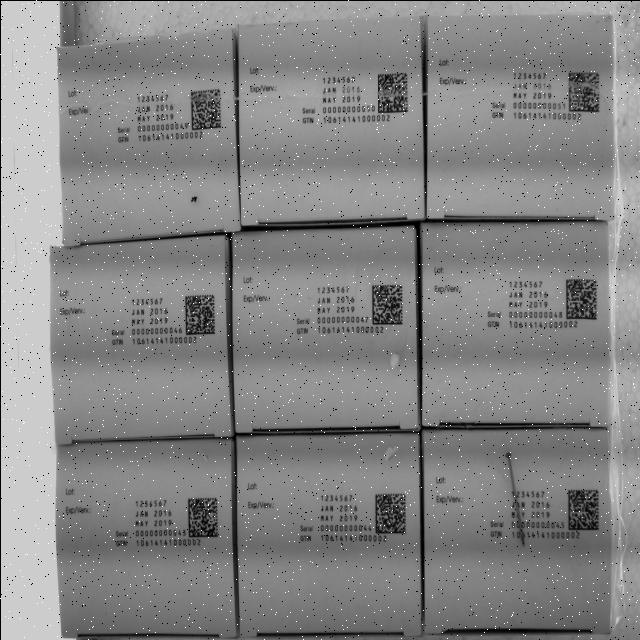datamatrix: (378, 69, 412, 114), (182, 291, 216, 336), (373, 490, 407, 535), (186, 494, 220, 539), (568, 69, 602, 113), (368, 281, 402, 325), (563, 277, 597, 321), (566, 487, 600, 531), (187, 86, 220, 130)
